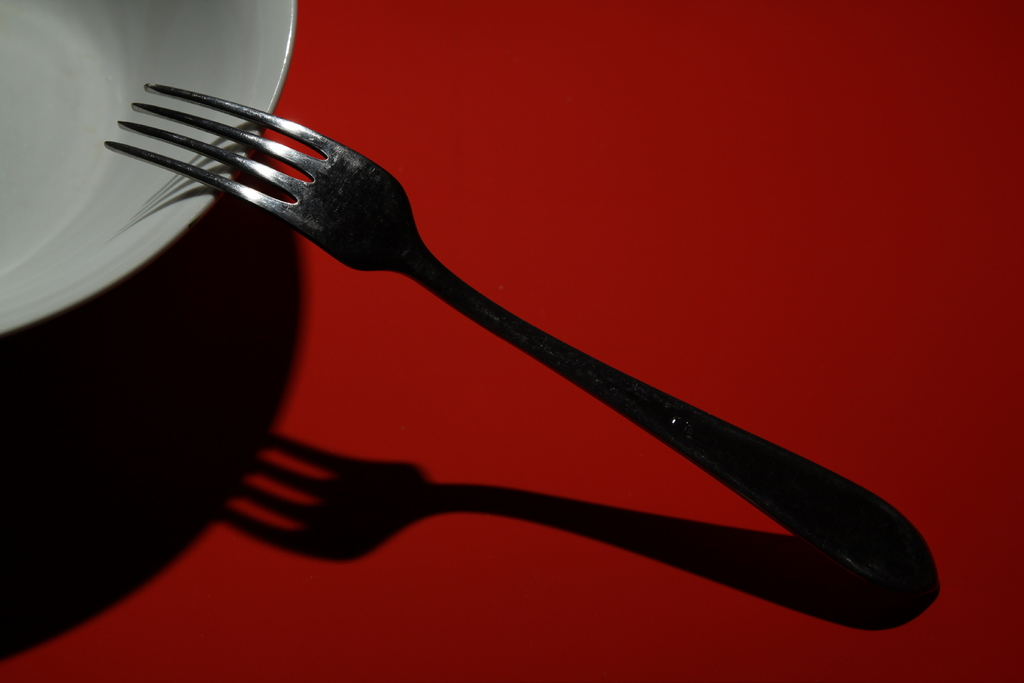fork: (103, 82, 938, 593)
